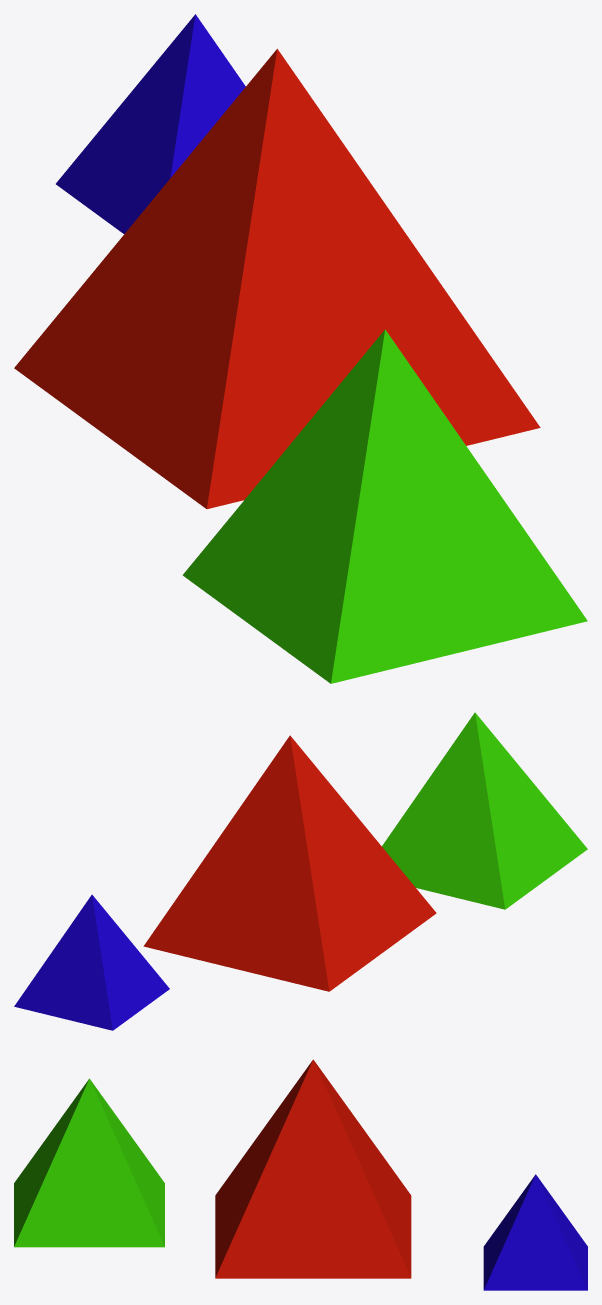
The model's file is three_pyramids.dae.
The picture shows the model from 3 angles, top to bottom: view 1: azimuth 30°, elevation 25°; view 2: azimuth 150°, elevation 25°; view 3: azimuth 270°, elevation 25°; orthographic projection. The views are drawn at different scales.
Parts seen in each view (by area): view 1: Cube, Cube_002, Cube_001; view 2: Cube, Cube_002, Cube_001; view 3: Cube, Cube_002, Cube_001.
Boxes of the visible parts, bbox=[...] form: Cube: bbox=[14, 48, 540, 508]; Cube_002: bbox=[182, 329, 587, 683]; Cube_001: bbox=[56, 14, 245, 233]; Cube: bbox=[143, 735, 436, 991]; Cube_002: bbox=[382, 712, 587, 909]; Cube_001: bbox=[14, 894, 169, 1030]; Cube: bbox=[215, 1059, 411, 1278]; Cube_002: bbox=[14, 1078, 164, 1247]; Cube_001: bbox=[483, 1174, 587, 1290].
Size of the model in its own units: 2.79 by 5.85 by 2.07.
